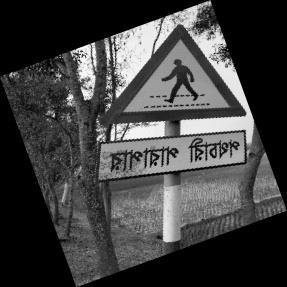Pedestrian-crossing: (98, 22, 251, 183)
